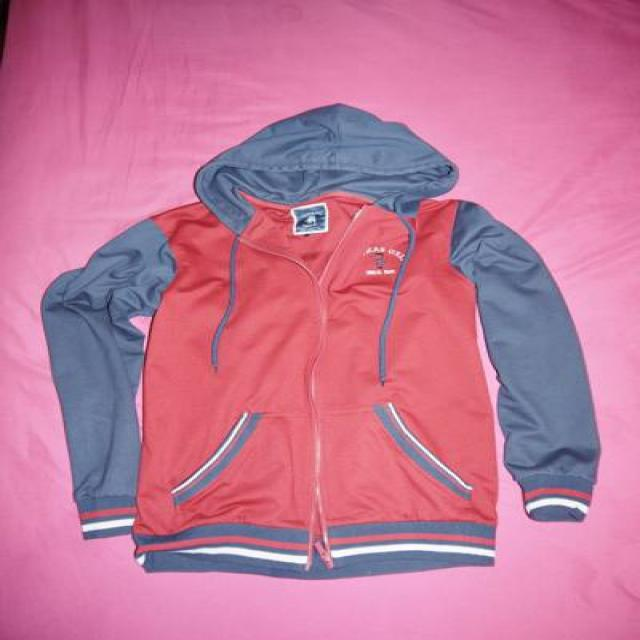Clothes -Biodegradable-: (45, 102, 598, 581)
